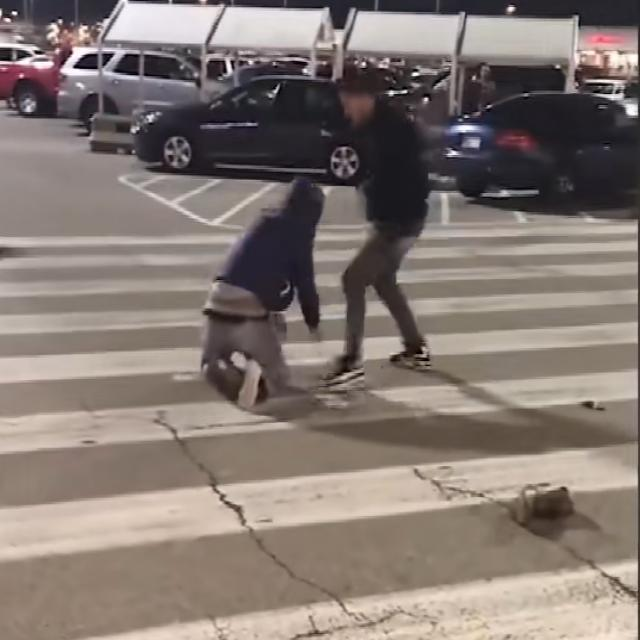nofight: (327, 74, 440, 411), (199, 183, 325, 417)
